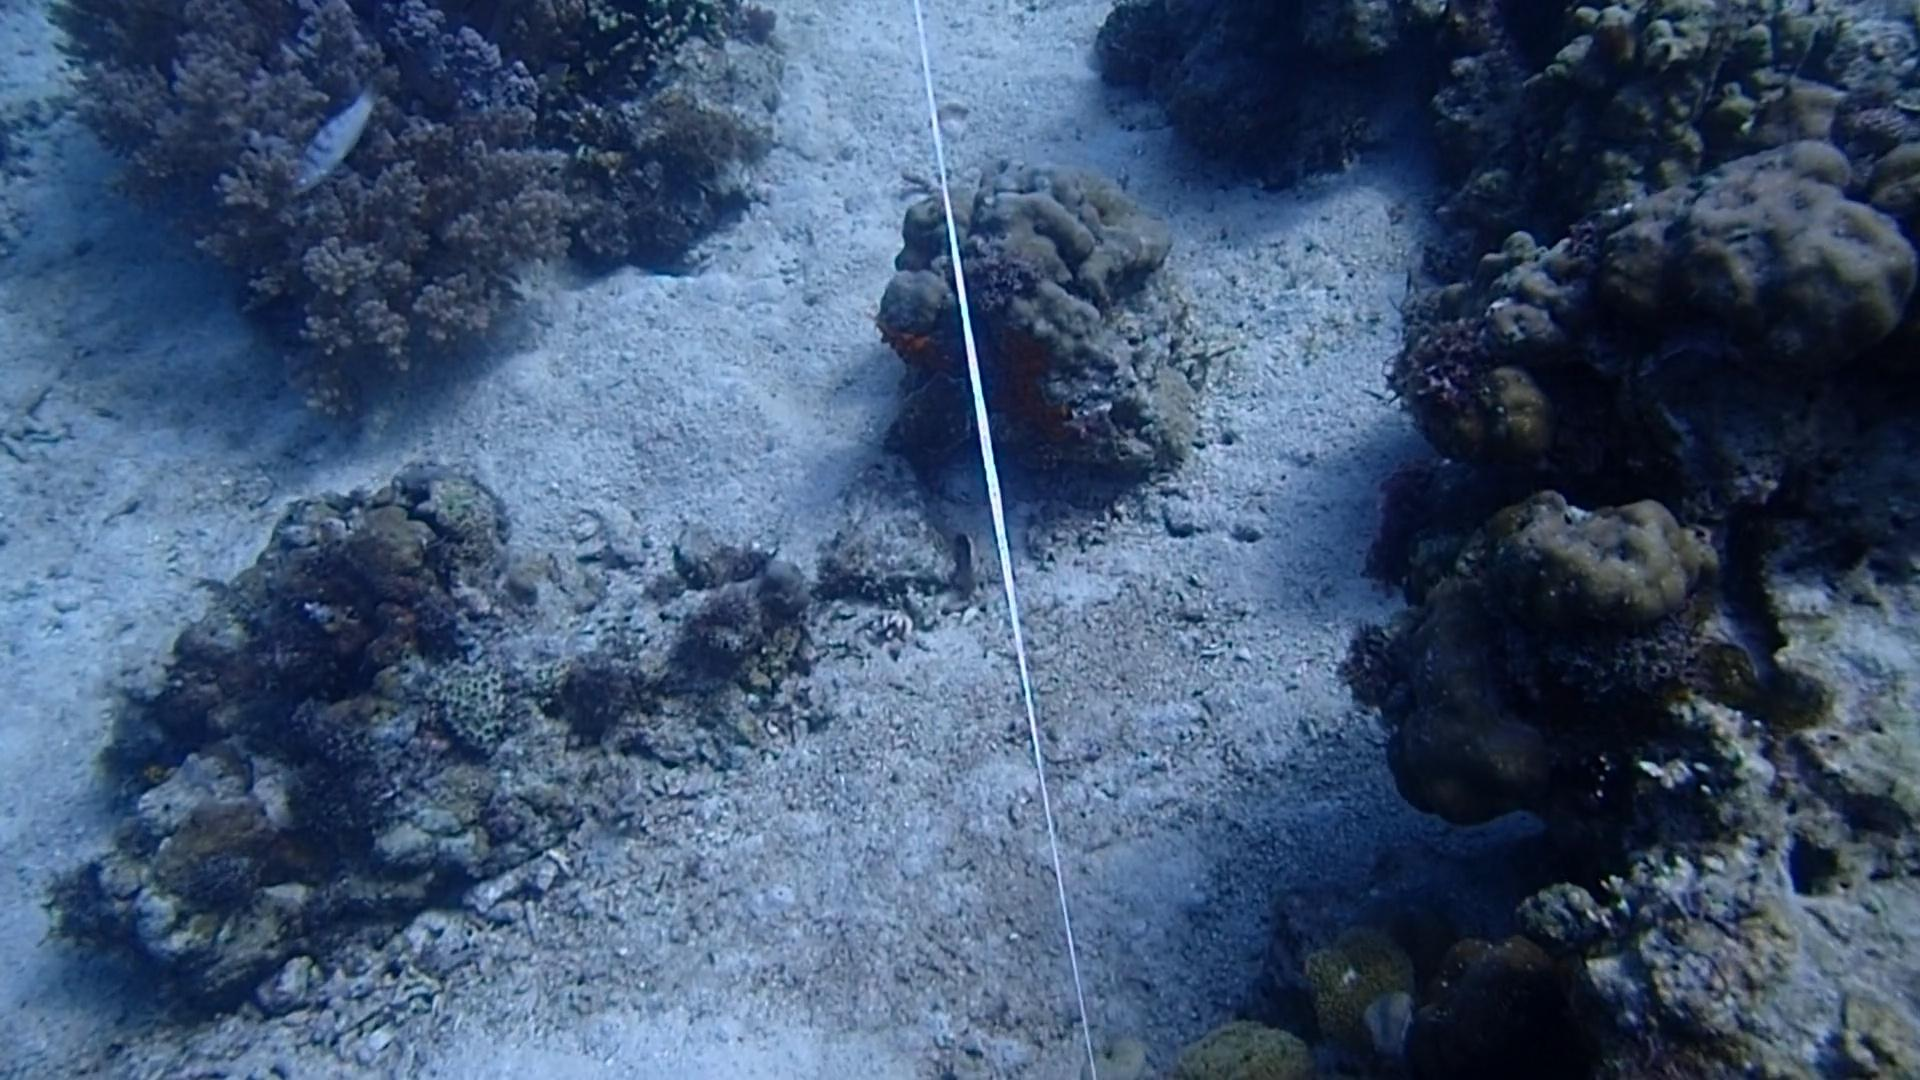Light Fish w Back Stripes: (281, 76, 393, 203)
